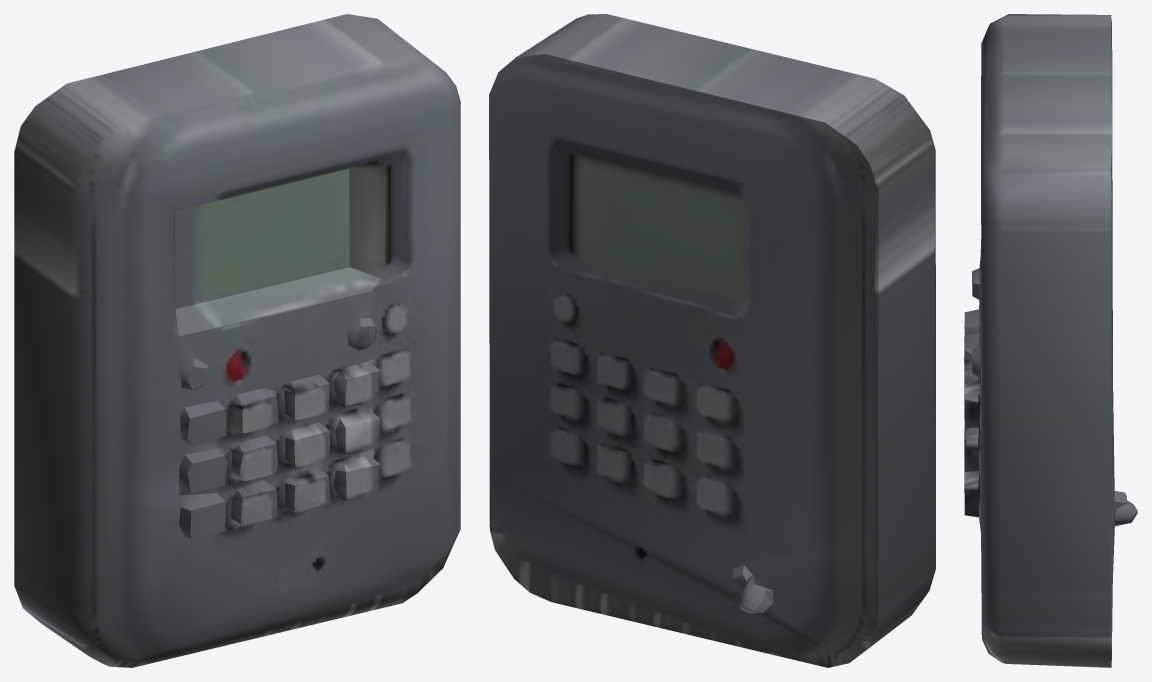
3 views of the same model, side by side, from view 1: azimuth 30°, elevation 25°; view 2: azimuth 150°, elevation 25°; view 3: azimuth 270°, elevation 25° (orthographic). The views are drawn at different scales.
Visible parts, largest first — view 1: Decor_alarm; view 2: Decor_alarm; view 3: Decor_alarm.
Part boxes in pixels (x1=…): Decor_alarm: x1=14, y1=14, x2=460, y2=667; Decor_alarm: x1=489, y1=14, x2=935, y2=667; Decor_alarm: x1=964, y1=14, x2=1137, y2=667.
Size of the model in its own units: 0.1633 by 0.2195 by 0.0664.
1 material, 1 textured.
